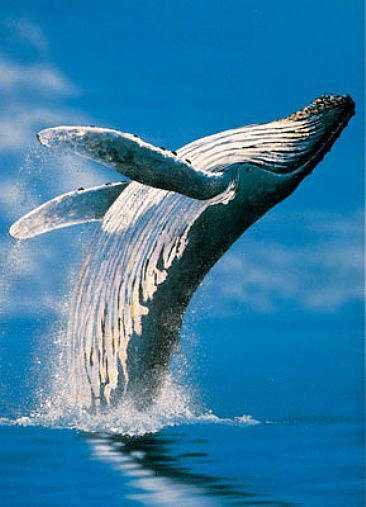humpback: (55, 89, 358, 416)
